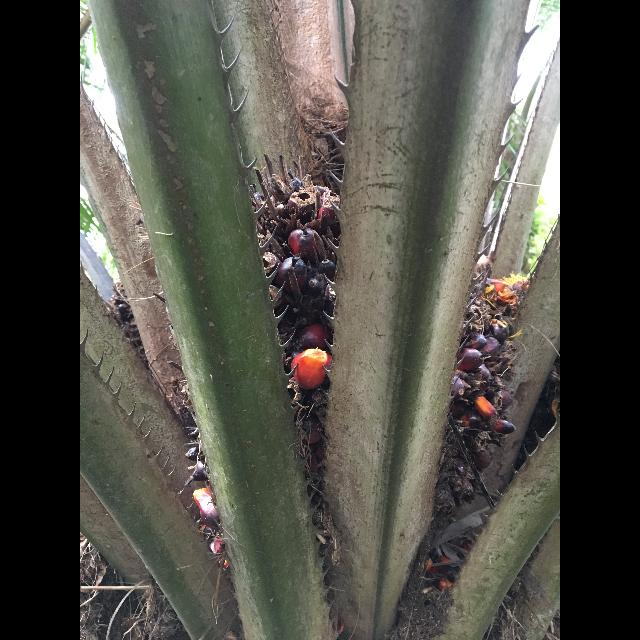Unripe: (253, 176, 346, 401), (450, 278, 527, 470)
